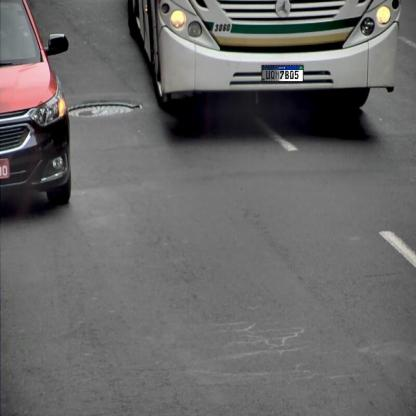PlacaM: (262, 65, 304, 82)
